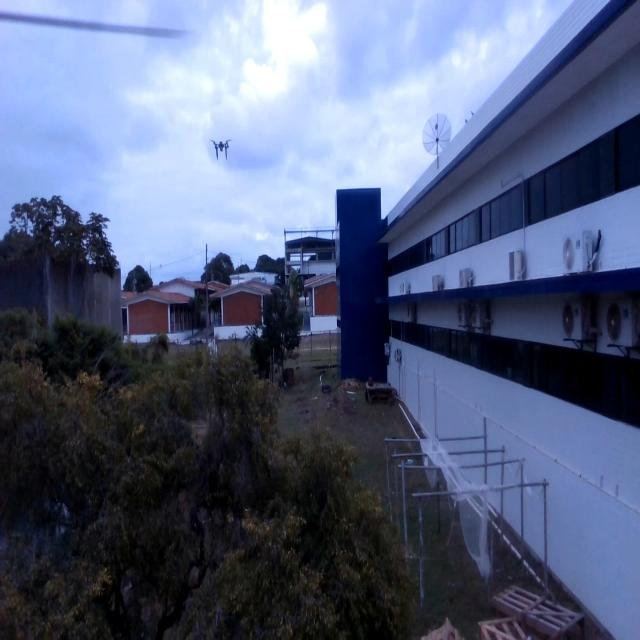-uav-: (208, 130, 235, 166)
